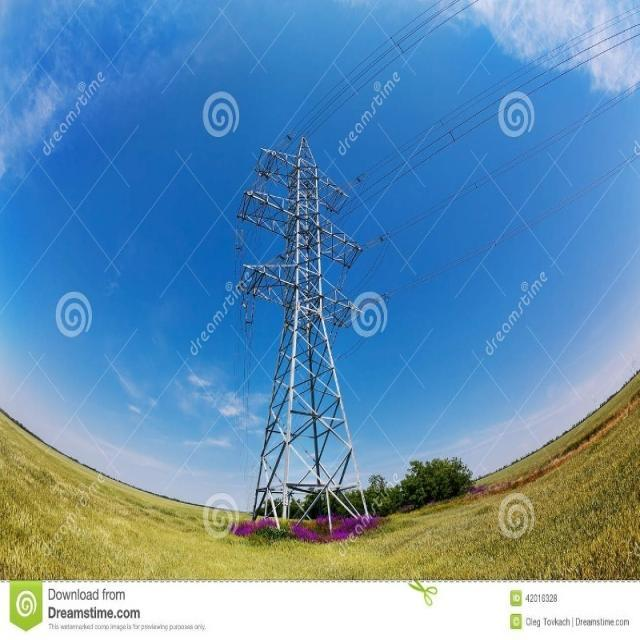non-critical vegetation: (234, 124, 376, 532)
